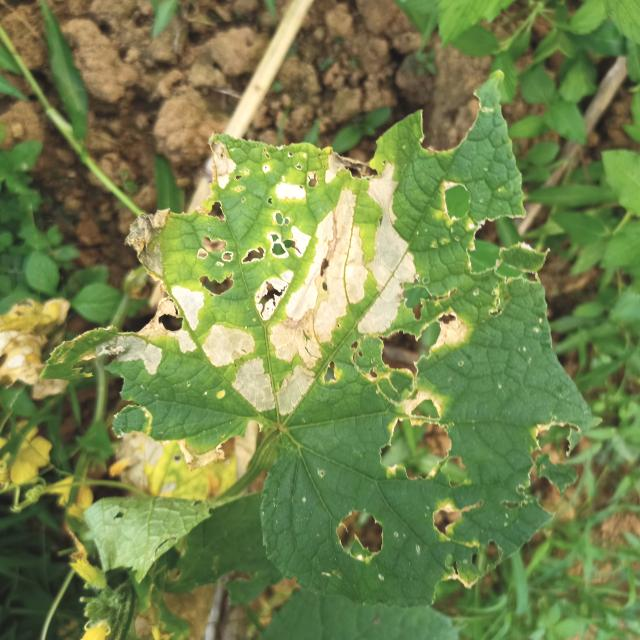disease_cucumber: (117, 132, 414, 432), (371, 153, 574, 540)
